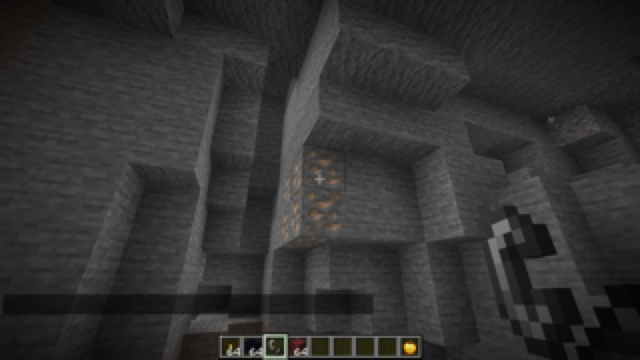iron: (278, 146, 343, 251)
